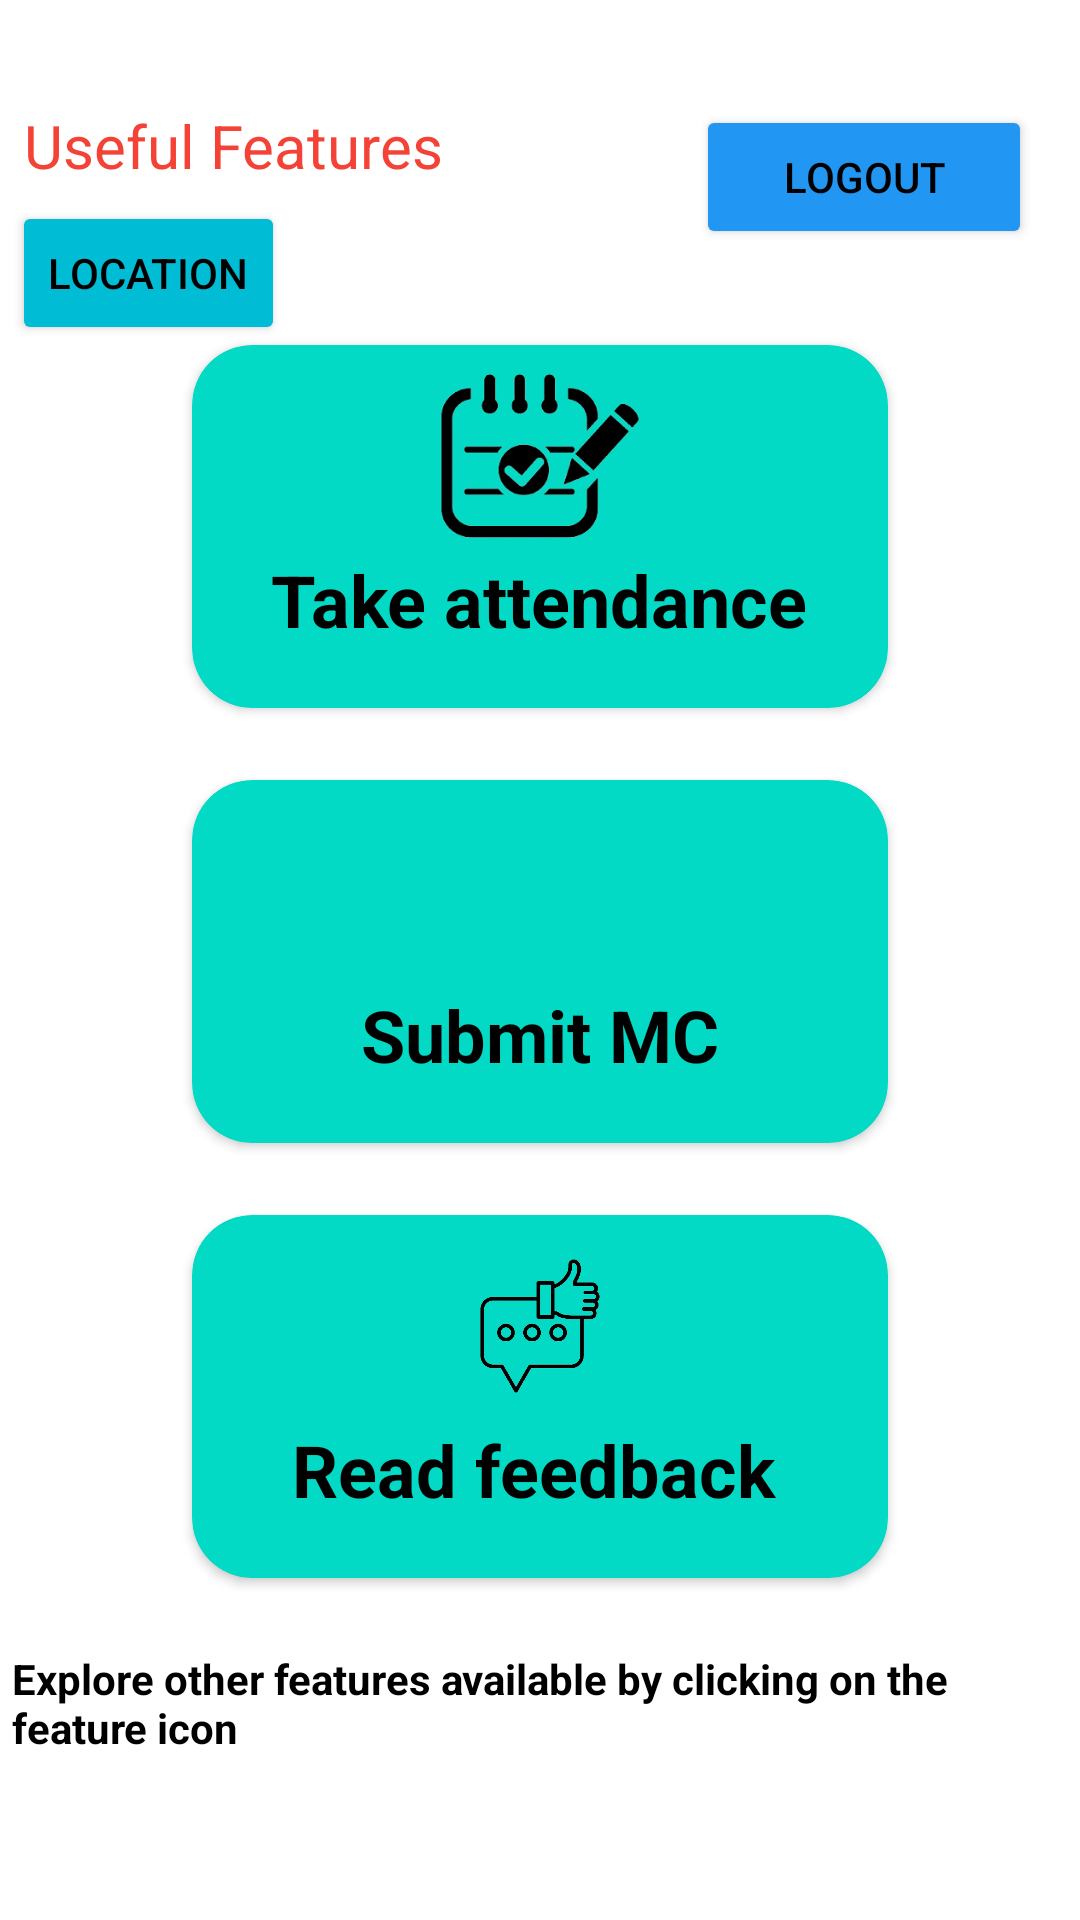

Icon click points for this 1080*1920 phone screenshot, format (x,y):
student feedback: (540,1326)
